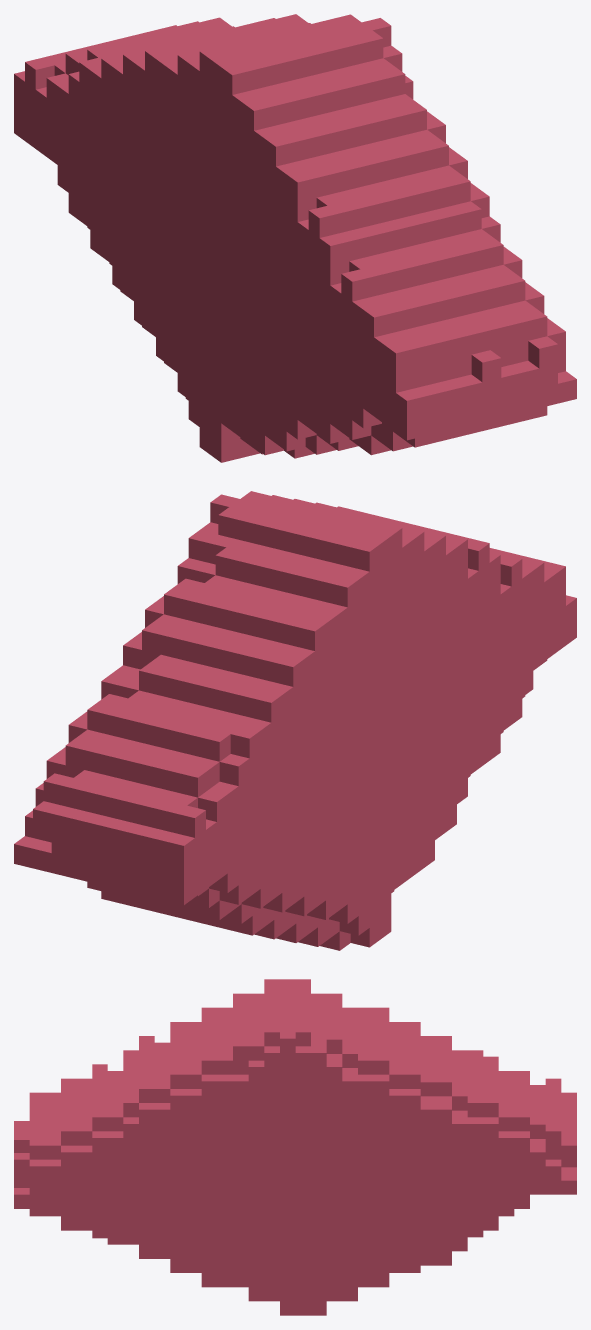
File: satumaimo.glb
3 renders of one model, top to bottom at view 1: azimuth 30°, elevation 25°; view 2: azimuth 150°, elevation 25°; view 3: azimuth 270°, elevation 25°, orthographic. The views are drawn at different scales.
Visible parts, largest first — view 1: Untitled; view 2: Untitled; view 3: Untitled.
Part boxes in pixels (x1,y1,x2,y2): Untitled: [14, 14, 576, 462]; Untitled: [14, 491, 576, 950]; Untitled: [14, 979, 576, 1315].
Size of the model in its own units: 0.18 by 0.4 by 0.72.
Materials: 1 (1 with a texture image).
